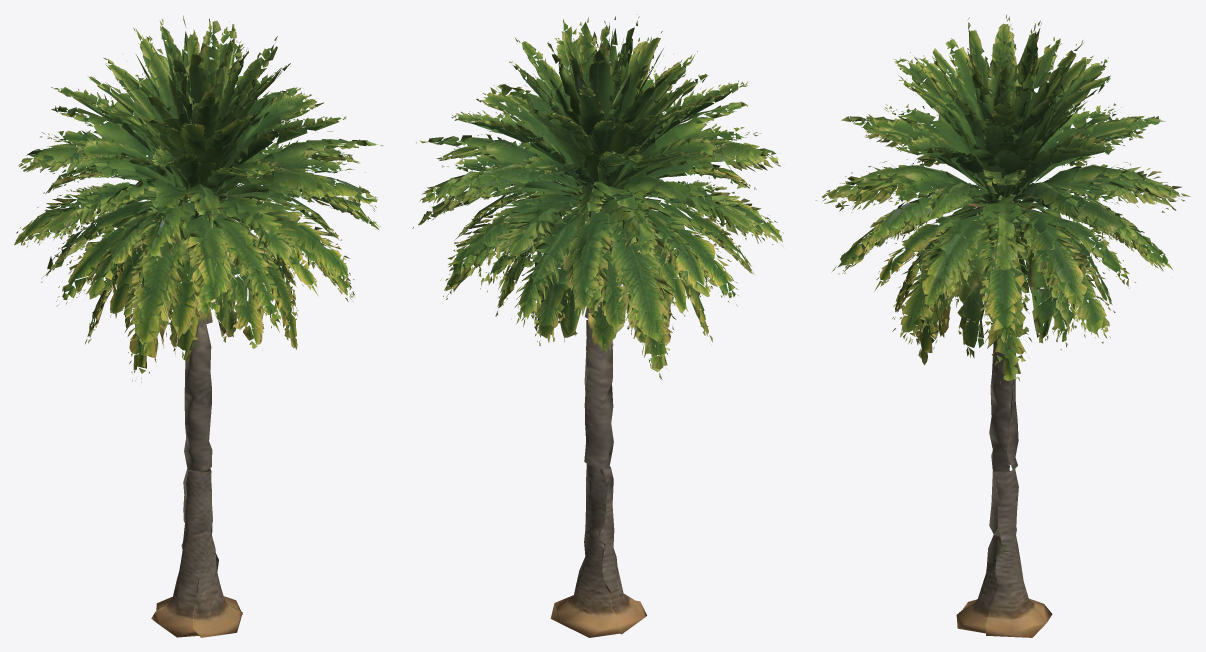
File: palm_a.glb
The picture shows the model from 3 angles, left to right: view 1: azimuth 30°, elevation 25°; view 2: azimuth 150°, elevation 25°; view 3: azimuth 270°, elevation 25°; orthographic projection.
Visible parts, largest first — view 1: Mesh_0; view 2: Mesh_0; view 3: Mesh_0.
Part boxes in pixels (box(x1,y1,x2,y2)): Mesh_0: box(14, 15, 383, 637); Mesh_0: box(412, 16, 783, 637); Mesh_0: box(815, 15, 1190, 637).
Size of the model in its own units: 1.07 by 1.89 by 1.09.
1 material, 1 textured.
